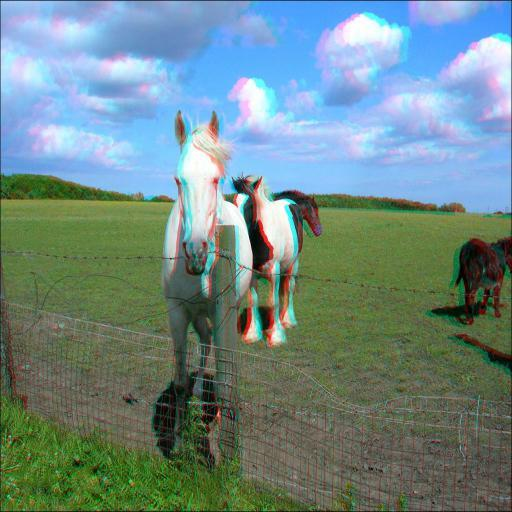Horse: (161, 108, 255, 459), (232, 172, 304, 346), (270, 188, 323, 295), (452, 236, 512, 329), (272, 186, 324, 236)
